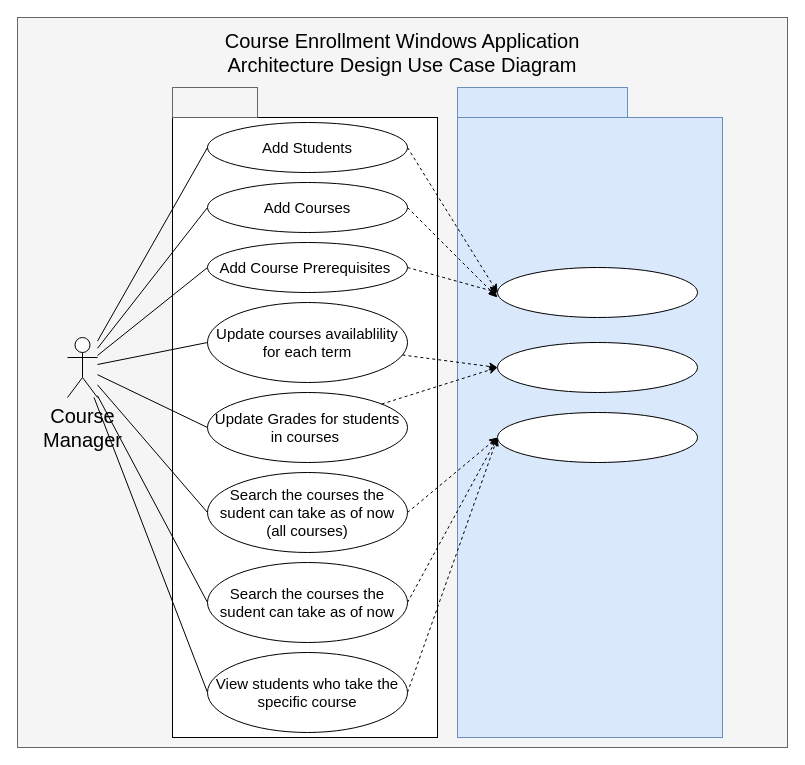
Image size: 805x765. Some labels were removed from this diagram. The shapes that lost their labels are listed below. From the top down, each one's centre as x and y in pixels, then its label:
At (x=215, y=102): "Application".
At (x=542, y=102): "Azure SQL Database".
At (x=597, y=292): "Data storage".
At (x=597, y=367): "Manage data".
At (x=597, y=437): "View data".
